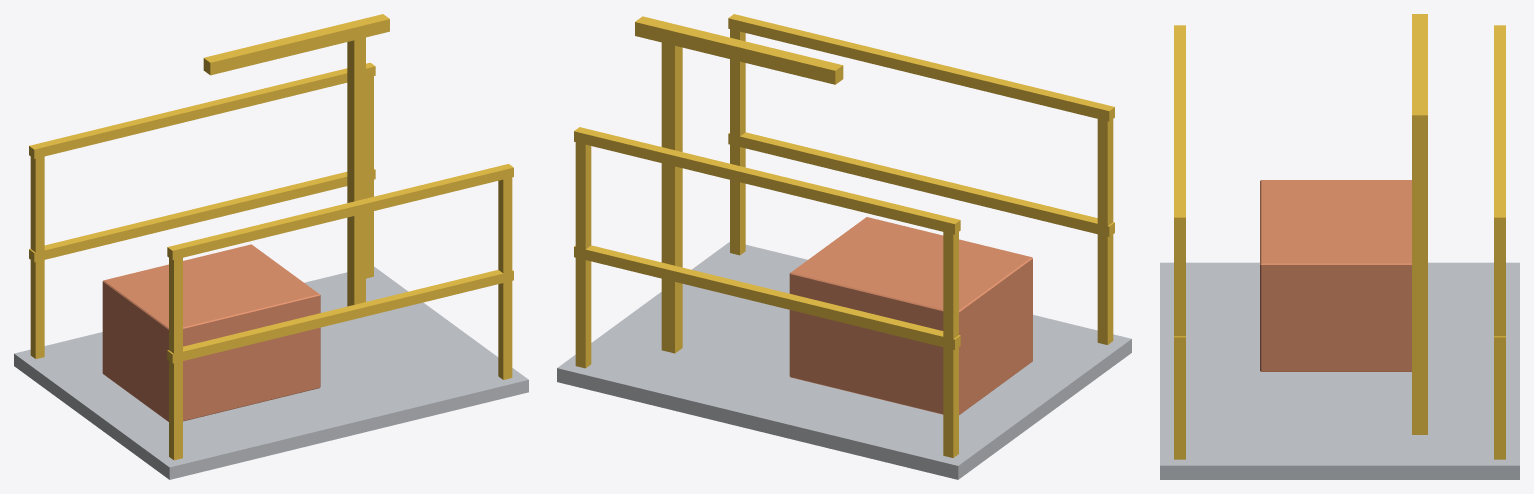
Rendered from scaffold.fbx.
3 views of the same model, side by side, from view 1: azimuth 30°, elevation 25°; view 2: azimuth 150°, elevation 25°; view 3: azimuth 270°, elevation 25° (orthographic). The views are drawn at different scales.
Parts seen in each view (by area): view 1: scaffold; view 2: scaffold; view 3: scaffold.
Part boxes in pixels (<box>): scaffold: <box>14,14,528,479</box>; scaffold: <box>557,14,1131,479</box>; scaffold: <box>1160,14,1519,479</box>.
Bounding box in the file's own units: 12 × 9.6 × 9.
